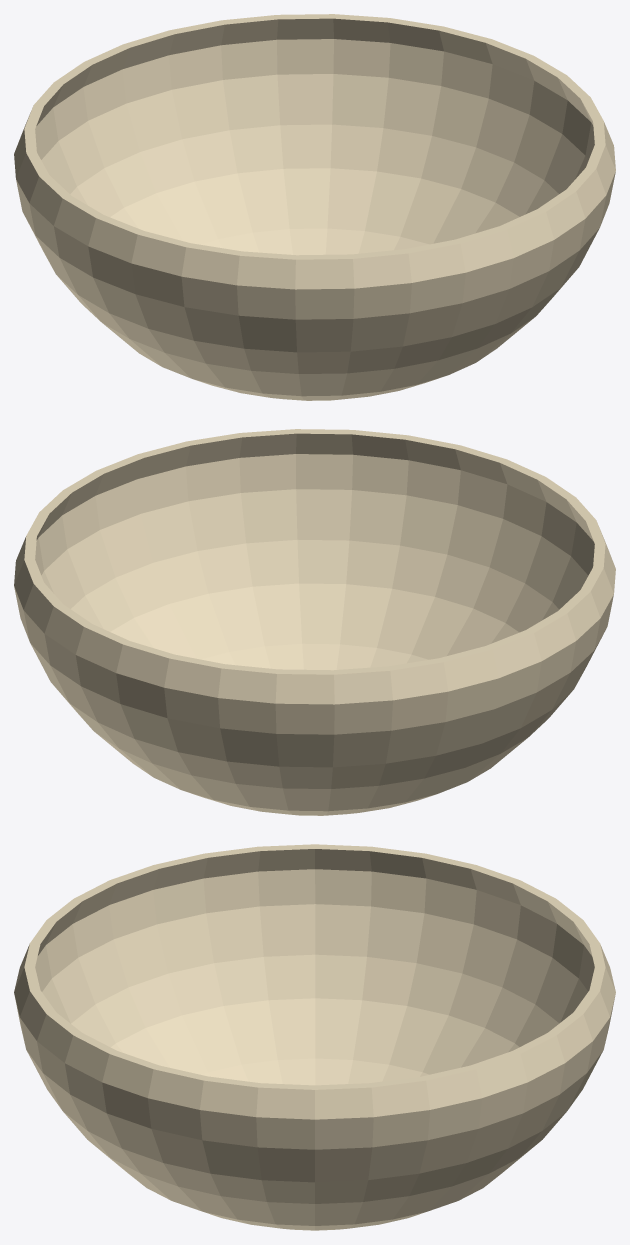
The model's file is bowl.glb.
The picture shows the model from 3 angles, top to bottom: view 1: azimuth 30°, elevation 25°; view 2: azimuth 150°, elevation 25°; view 3: azimuth 270°, elevation 25°; orthographic projection.
Visible parts, largest first — view 1: Cylinder; view 2: Cylinder; view 3: Cylinder.
Boxes of the visible parts, x1,y1,x2,y2 form: Cylinder: (14, 14, 615, 400); Cylinder: (14, 429, 615, 815); Cylinder: (14, 844, 615, 1230).
Bounding box in the file's own units: 2.97 × 1.16 × 2.97.
